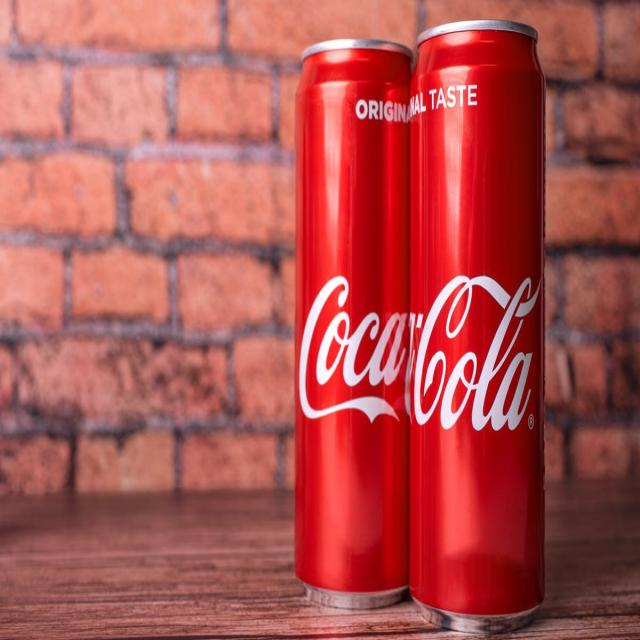cocacola: (412, 21, 552, 629), (294, 48, 418, 612)
